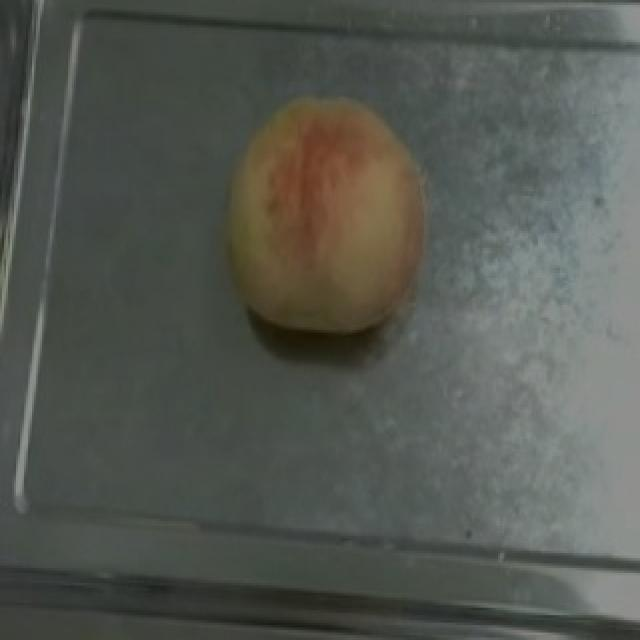Fruit: (204, 79, 442, 350)
